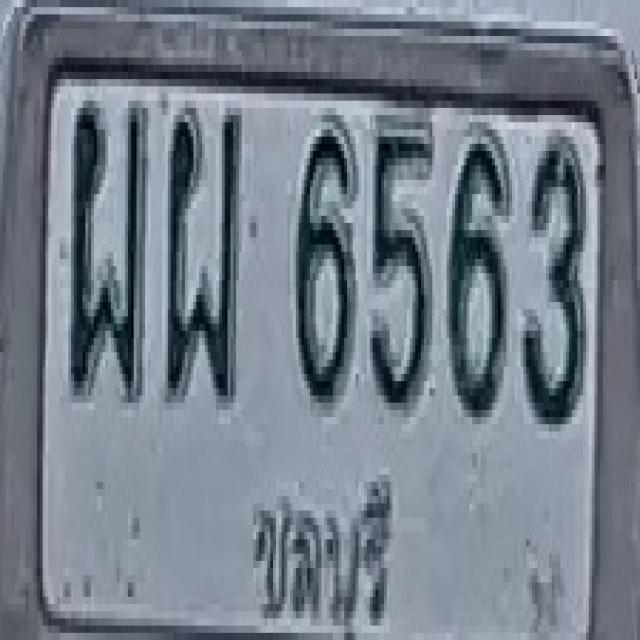3: (522, 137, 584, 424)
5: (370, 122, 432, 410)
6: (447, 137, 509, 417), (295, 119, 354, 406)
A28: (67, 97, 146, 399), (163, 104, 240, 399)
CBI: (244, 461, 398, 638)
